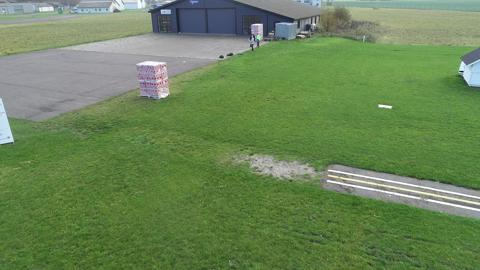RockwoolPallet: (250, 23, 264, 43)
